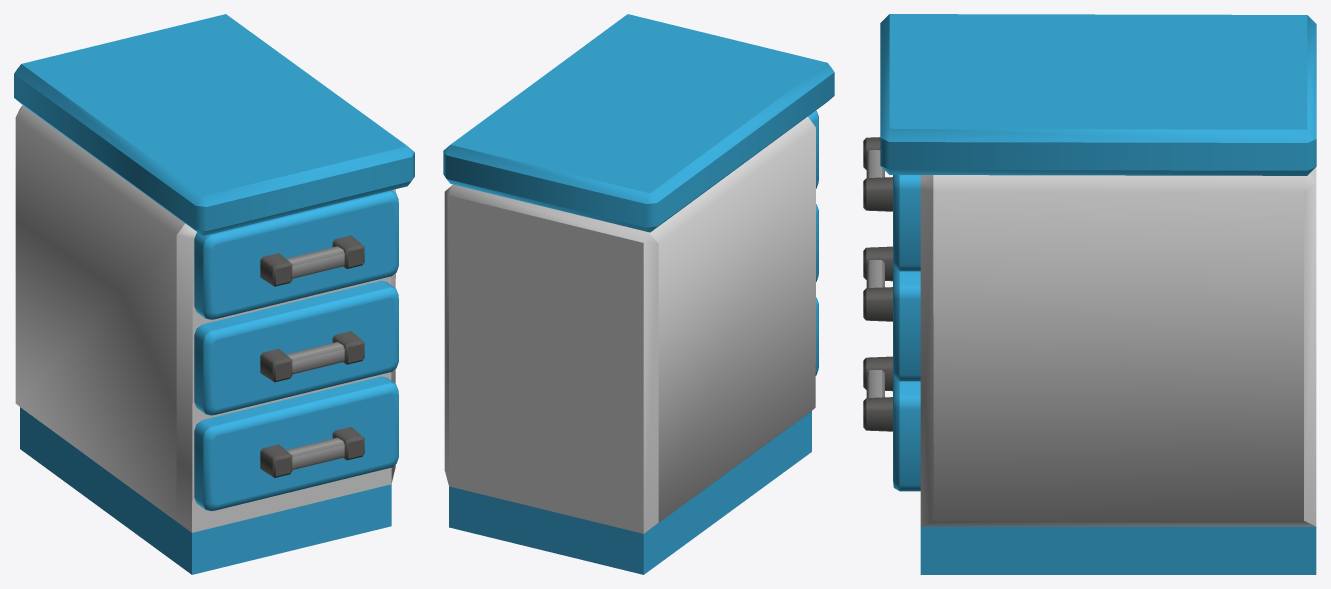
File: Furnit_H_3_H.glb
The picture shows the model from 3 angles, left to right: view 1: azimuth 30°, elevation 25°; view 2: azimuth 150°, elevation 25°; view 3: azimuth 270°, elevation 25°; orthographic projection. The views are drawn at different scales.
Parts seen in each view (by area): view 1: Furnit_H_3_H; view 2: Furnit_H_3_H; view 3: Furnit_H_3_H.
Part boxes in pixels (left/top/right/bottom): Furnit_H_3_H: left=14, top=14, right=414, bottom=574; Furnit_H_3_H: left=443, top=14, right=834, bottom=574; Furnit_H_3_H: left=863, top=14, right=1316, bottom=574.
Bounding box in the file's own units: 0.6 × 1.02 × 0.9348.
Materials: 1 (1 with a texture image).
